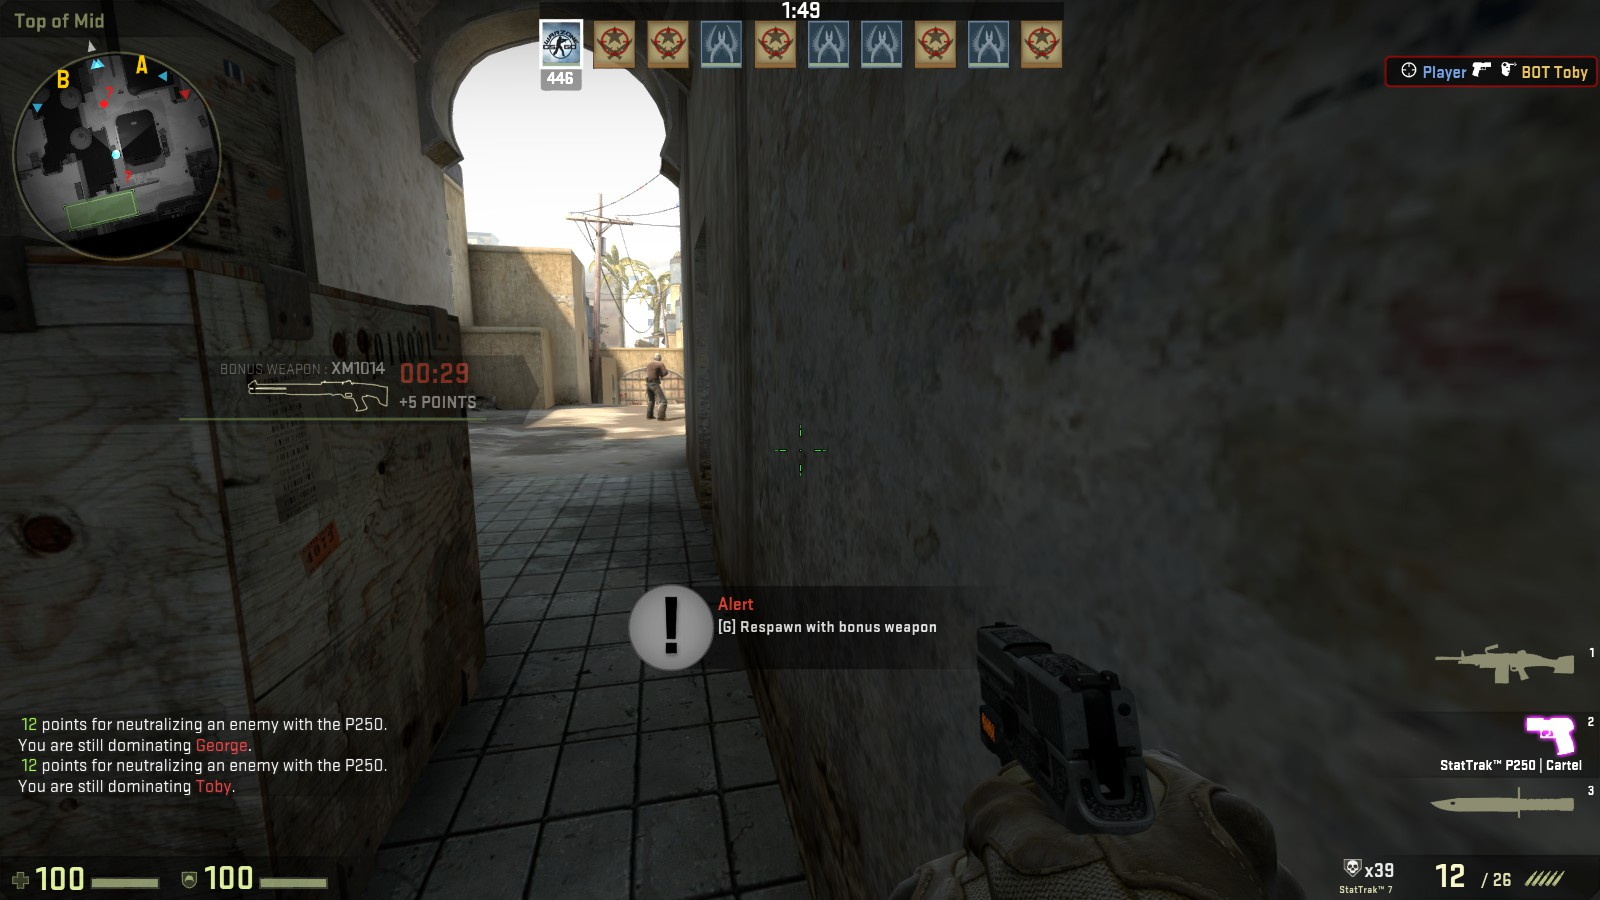t: (644, 352, 668, 421)
th: (651, 353, 662, 363)
